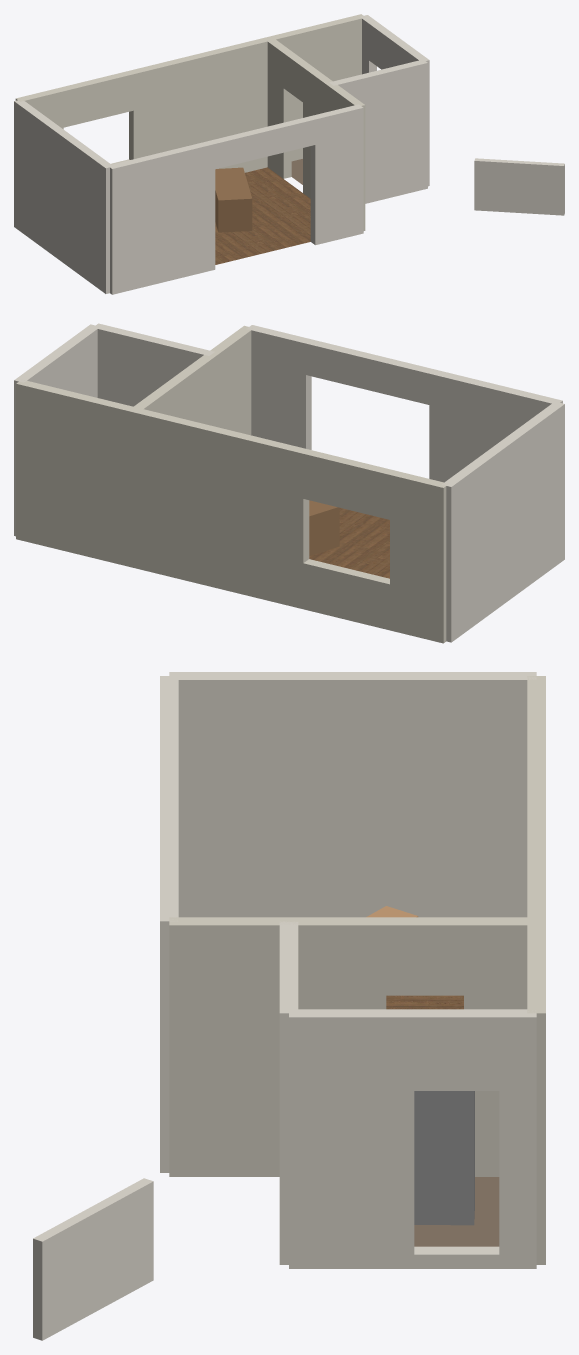
3 renders of one model, top to bottom at view 1: azimuth 30°, elevation 25°; view 2: azimuth 150°, elevation 25°; view 3: azimuth 270°, elevation 25°, orthographic. The views are drawn at different scales.
Visible parts, largest first — view 1: wal_south, wal_north, wal_west, wal_study-south, wal_partition, rom_living, wal_diagonal, wal_east, obj_design-table; view 2: wal_north, wal_west, wal_south, wal_partition, wal_study-south, wal_east, rom_living, obj_design-table; view 3: wal_west, wal_partition, wal_east, wal_diagonal, wal_north, obj_unknown-ref, wal_south, wal_study-south, rom_study, rom_living.
Part boxes in pixels (bbox=[...]): wal_south: bbox=[108, 104, 363, 294]; wal_north: bbox=[15, 14, 365, 172]; wal_west: bbox=[14, 99, 112, 293]; wal_study-south: bbox=[329, 59, 427, 203]; wal_partition: bbox=[267, 39, 365, 230]; rom_living: bbox=[215, 167, 310, 264]; wal_diagonal: bbox=[474, 158, 564, 215]; wal_east: bbox=[360, 15, 429, 186]; obj_design-table: bbox=[215, 167, 252, 232]; wal_north: bbox=[16, 380, 448, 643]; wal_west: bbox=[442, 401, 564, 642]; wal_south: bbox=[247, 325, 562, 482]; wal_partition: bbox=[132, 325, 252, 435]; wal_study-south: bbox=[93, 323, 214, 406]; wal_east: bbox=[14, 324, 99, 536]; rom_living: bbox=[309, 508, 389, 578]; obj_design-table: bbox=[309, 500, 339, 555]; wal_west: bbox=[169, 672, 536, 917]; wal_partition: bbox=[169, 917, 535, 1176]; wal_east: bbox=[289, 1009, 536, 1268]; wal_diagonal: bbox=[33, 1178, 153, 1340]; wal_north: bbox=[527, 676, 545, 1264]; obj_unknown-ref: bbox=[414, 1091, 474, 1225]; wal_south: bbox=[160, 676, 178, 1172]; wal_study-south: bbox=[279, 921, 298, 1264]; rom_study: bbox=[414, 1177, 499, 1246]; rom_living: bbox=[386, 995, 463, 1009].
Size of the model in its own units: 10.56 by 2.97 by 5.49.
Materials: 7 (1 with a texture image).
